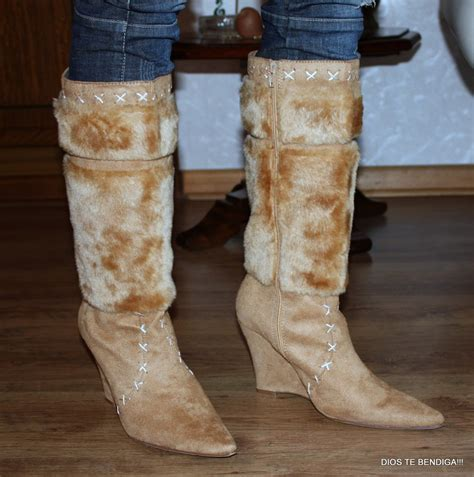gamuza: (76, 275, 443, 455)
